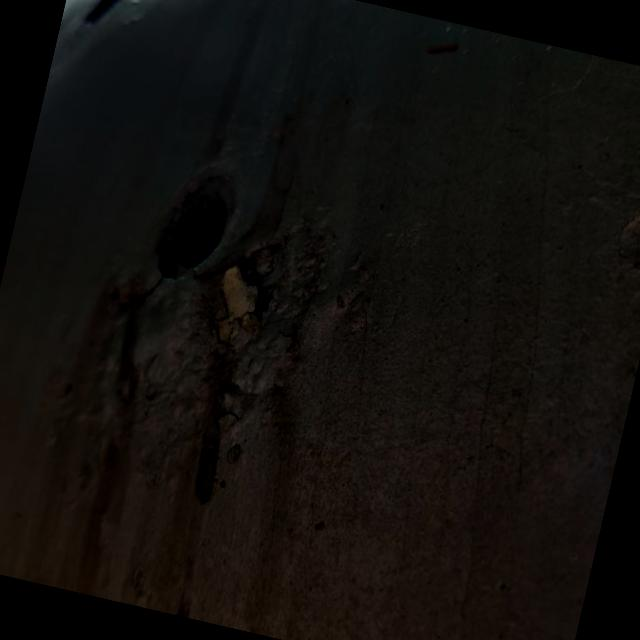Missing Fastener: (153, 160, 240, 286)
